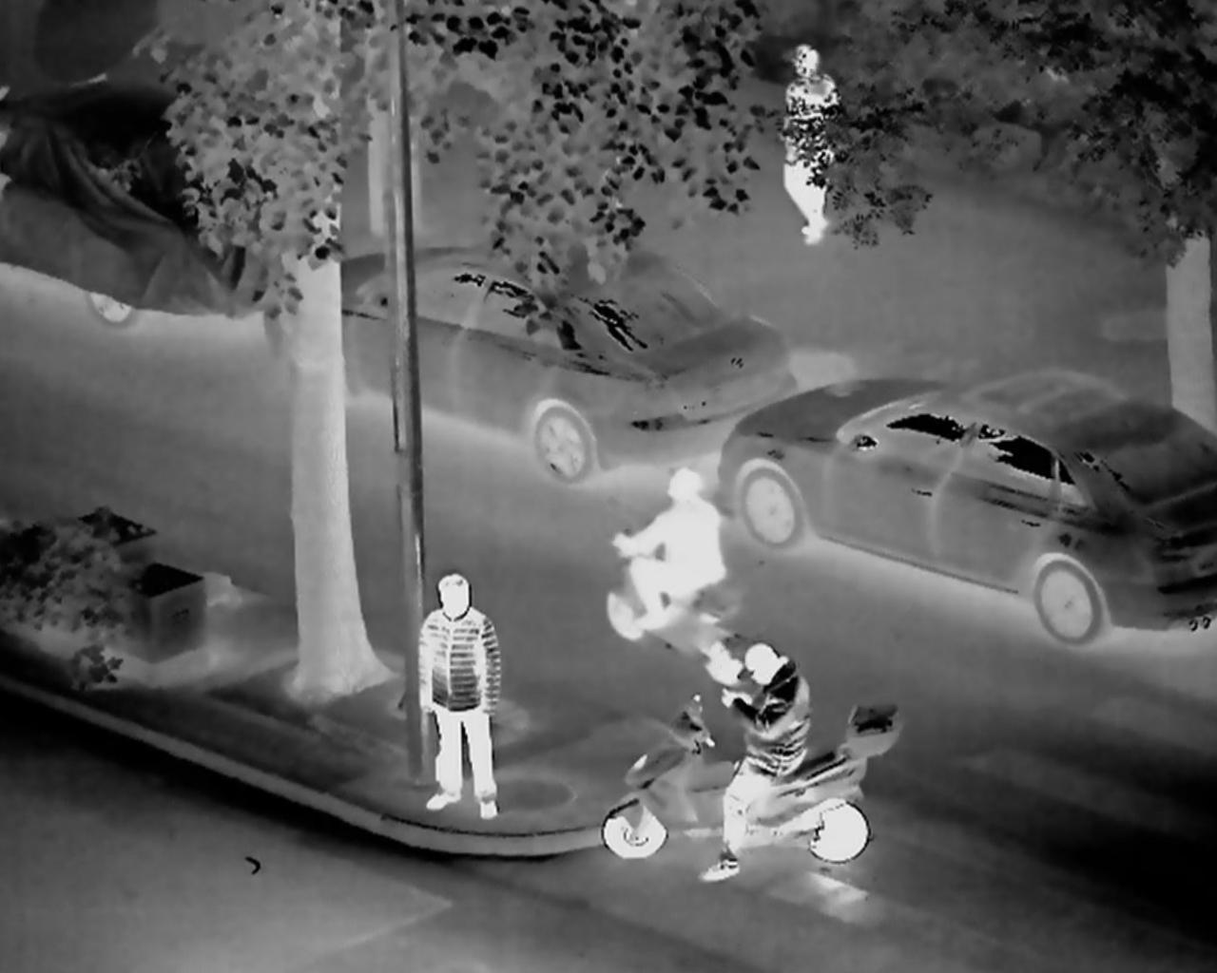person: (399, 564, 531, 825), (694, 641, 812, 898), (609, 461, 724, 643), (762, 43, 836, 254)
